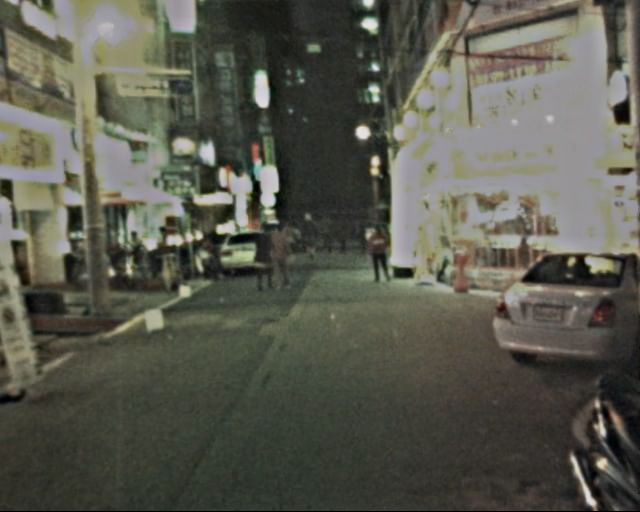person: (251, 226, 281, 295), (263, 223, 291, 293), (365, 224, 393, 286), (295, 211, 321, 263), (335, 226, 365, 255), (316, 214, 334, 258)
